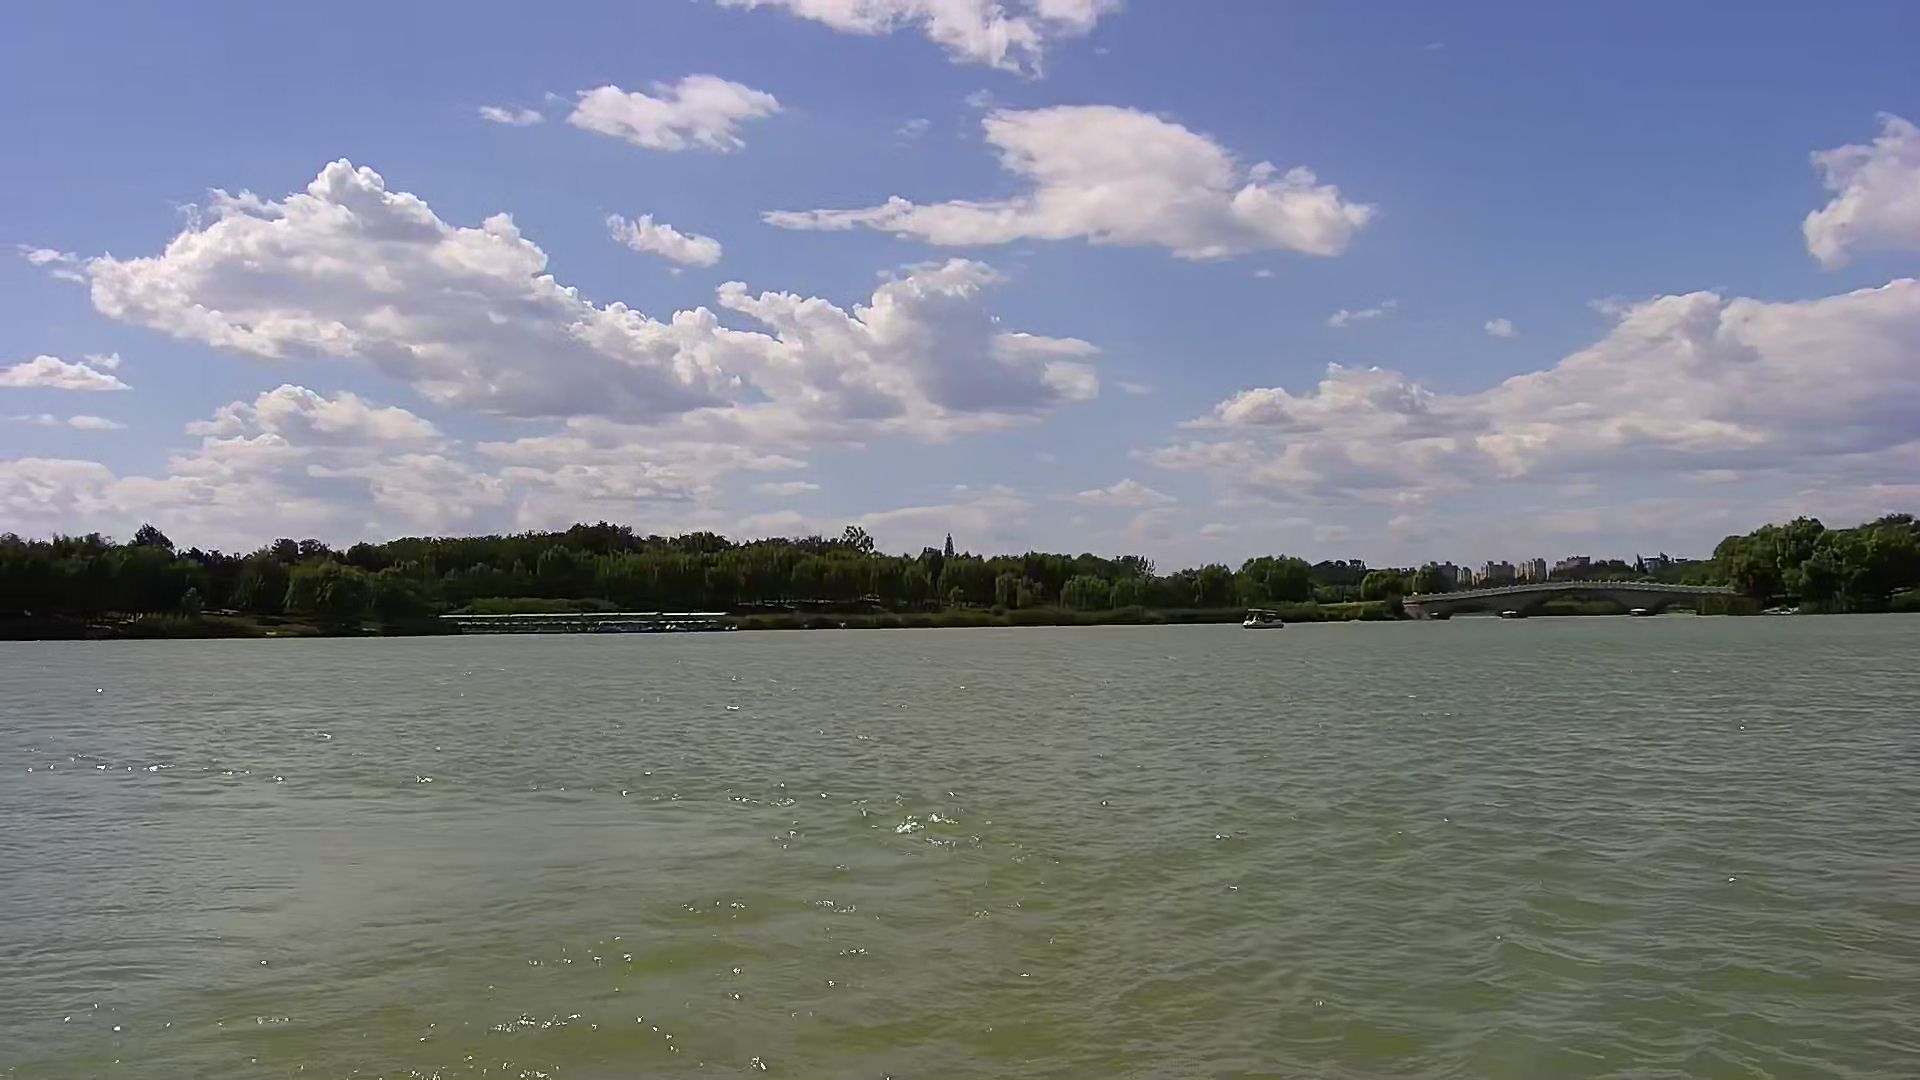boat: (1240, 607, 1282, 632)
bridge: (1411, 579, 1741, 620), (443, 607, 733, 634)
